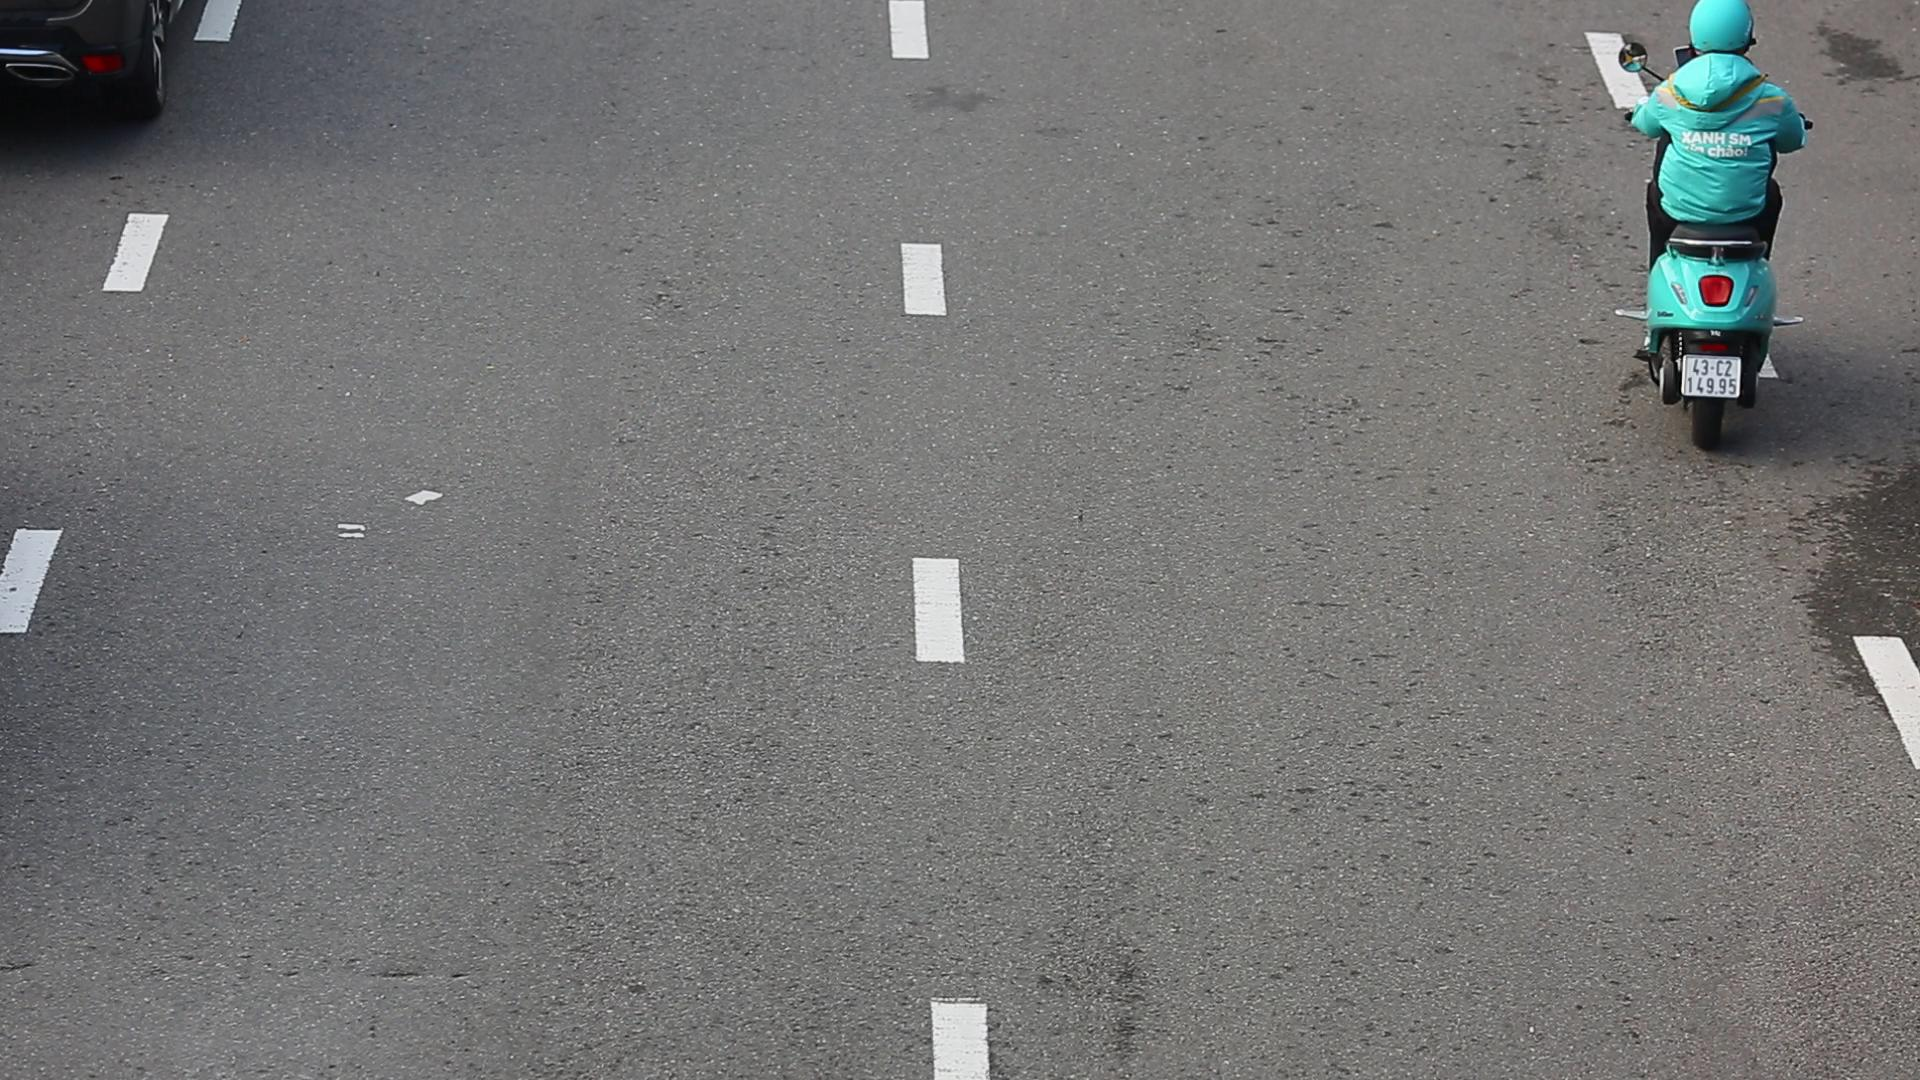motobike: (1615, 1, 1833, 463)
